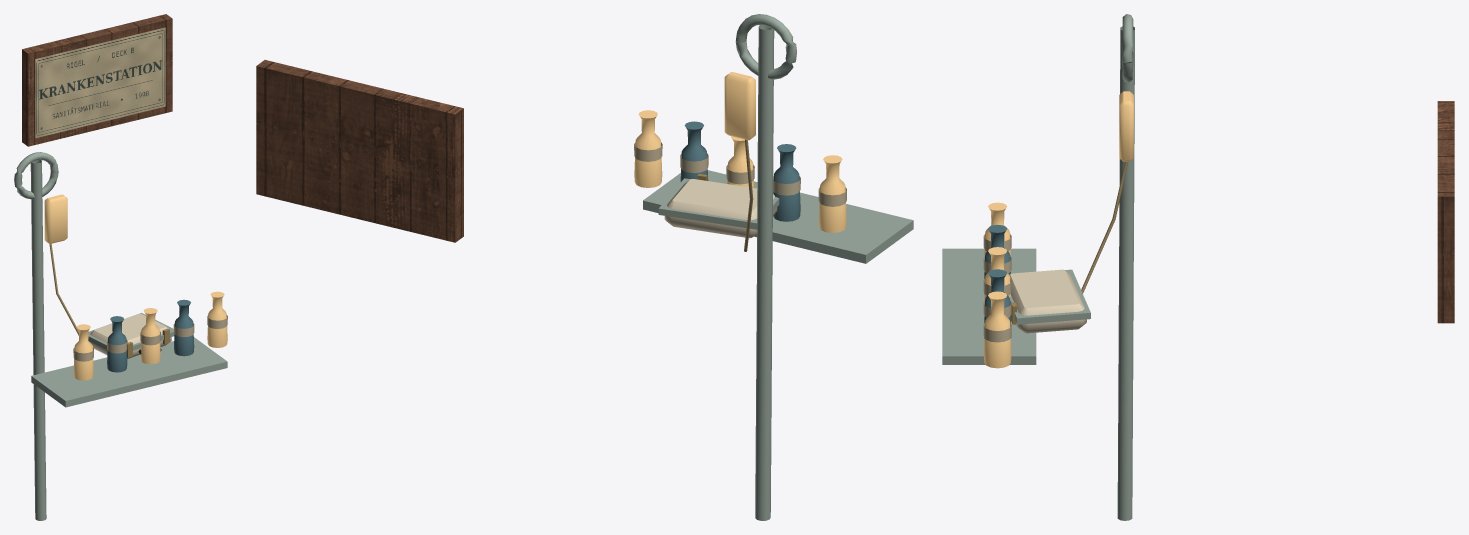
The model's file is rigel_medic.glb.
The picture shows the model from 3 angles, left to right: view 1: azimuth 30°, elevation 25°; view 2: azimuth 150°, elevation 25°; view 3: azimuth 270°, elevation 25°; orthographic projection. The views are drawn at different scales.
Visible parts, largest first — view 1: Krankenstation 1998; view 2: Krankenstation 1998; view 3: Krankenstation 1998.
Part boxes in pixels (<box>): Krankenstation 1998: <box>14,14,227,520</box>; Krankenstation 1998: <box>256,14,913,520</box>; Krankenstation 1998: <box>942,14,1454,520</box>.
Size of the model in its own units: 1.64 by 1.99 by 1.85.
10 materials, 2 textured.
